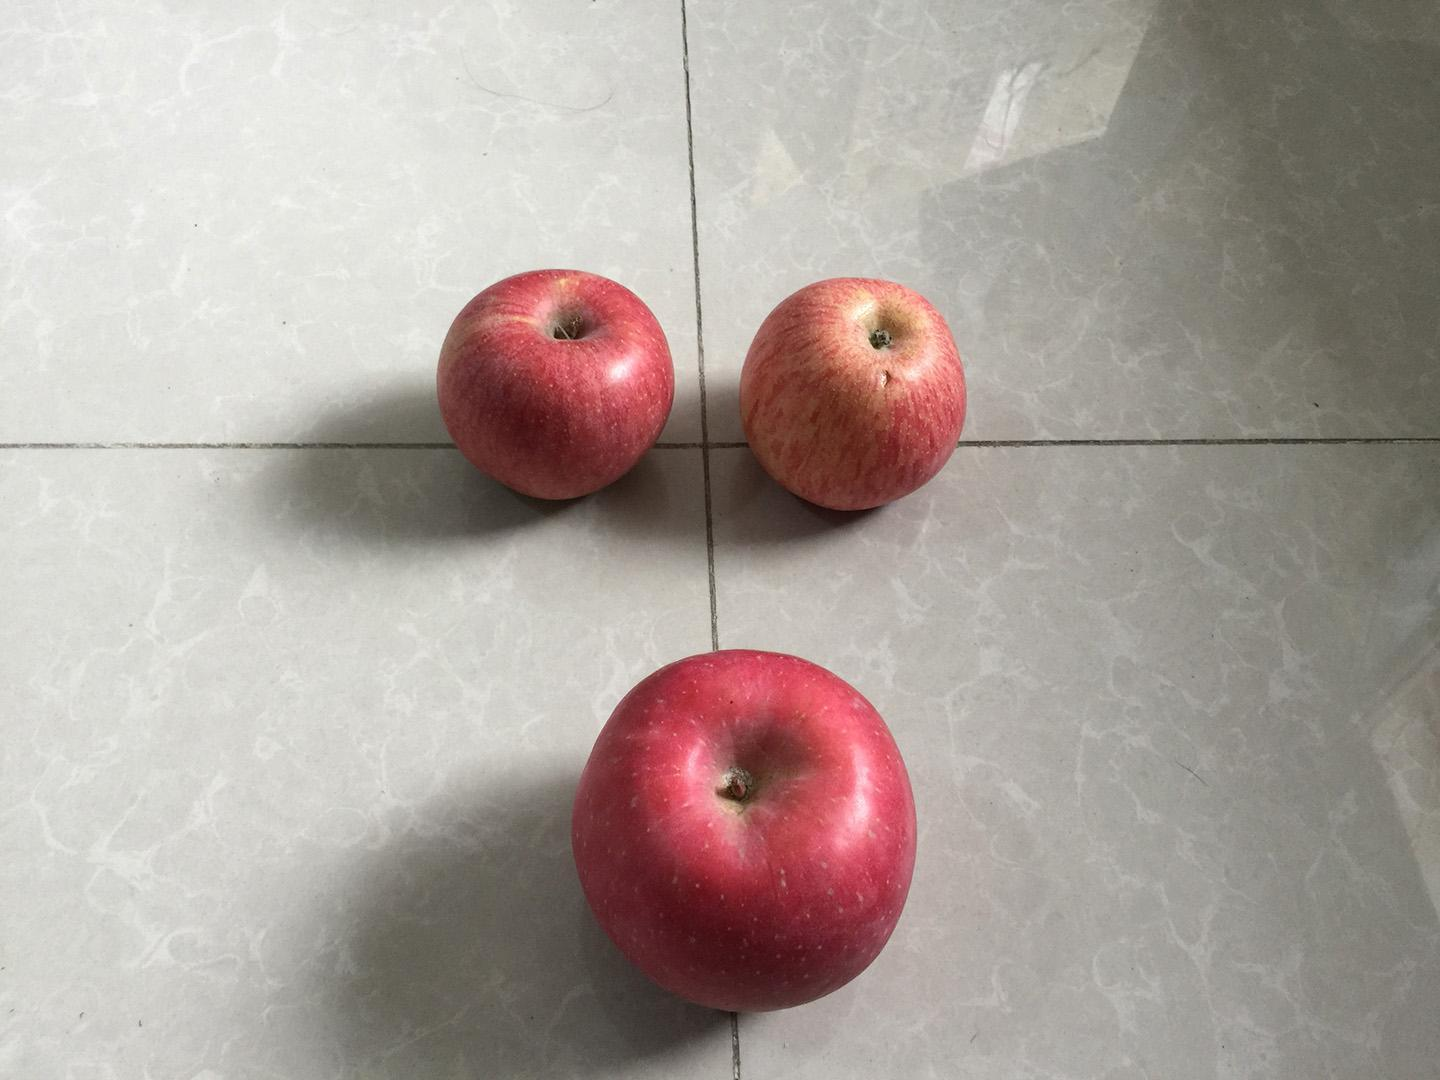apple: (565, 642, 926, 1018), (429, 261, 683, 508), (730, 270, 973, 517)
